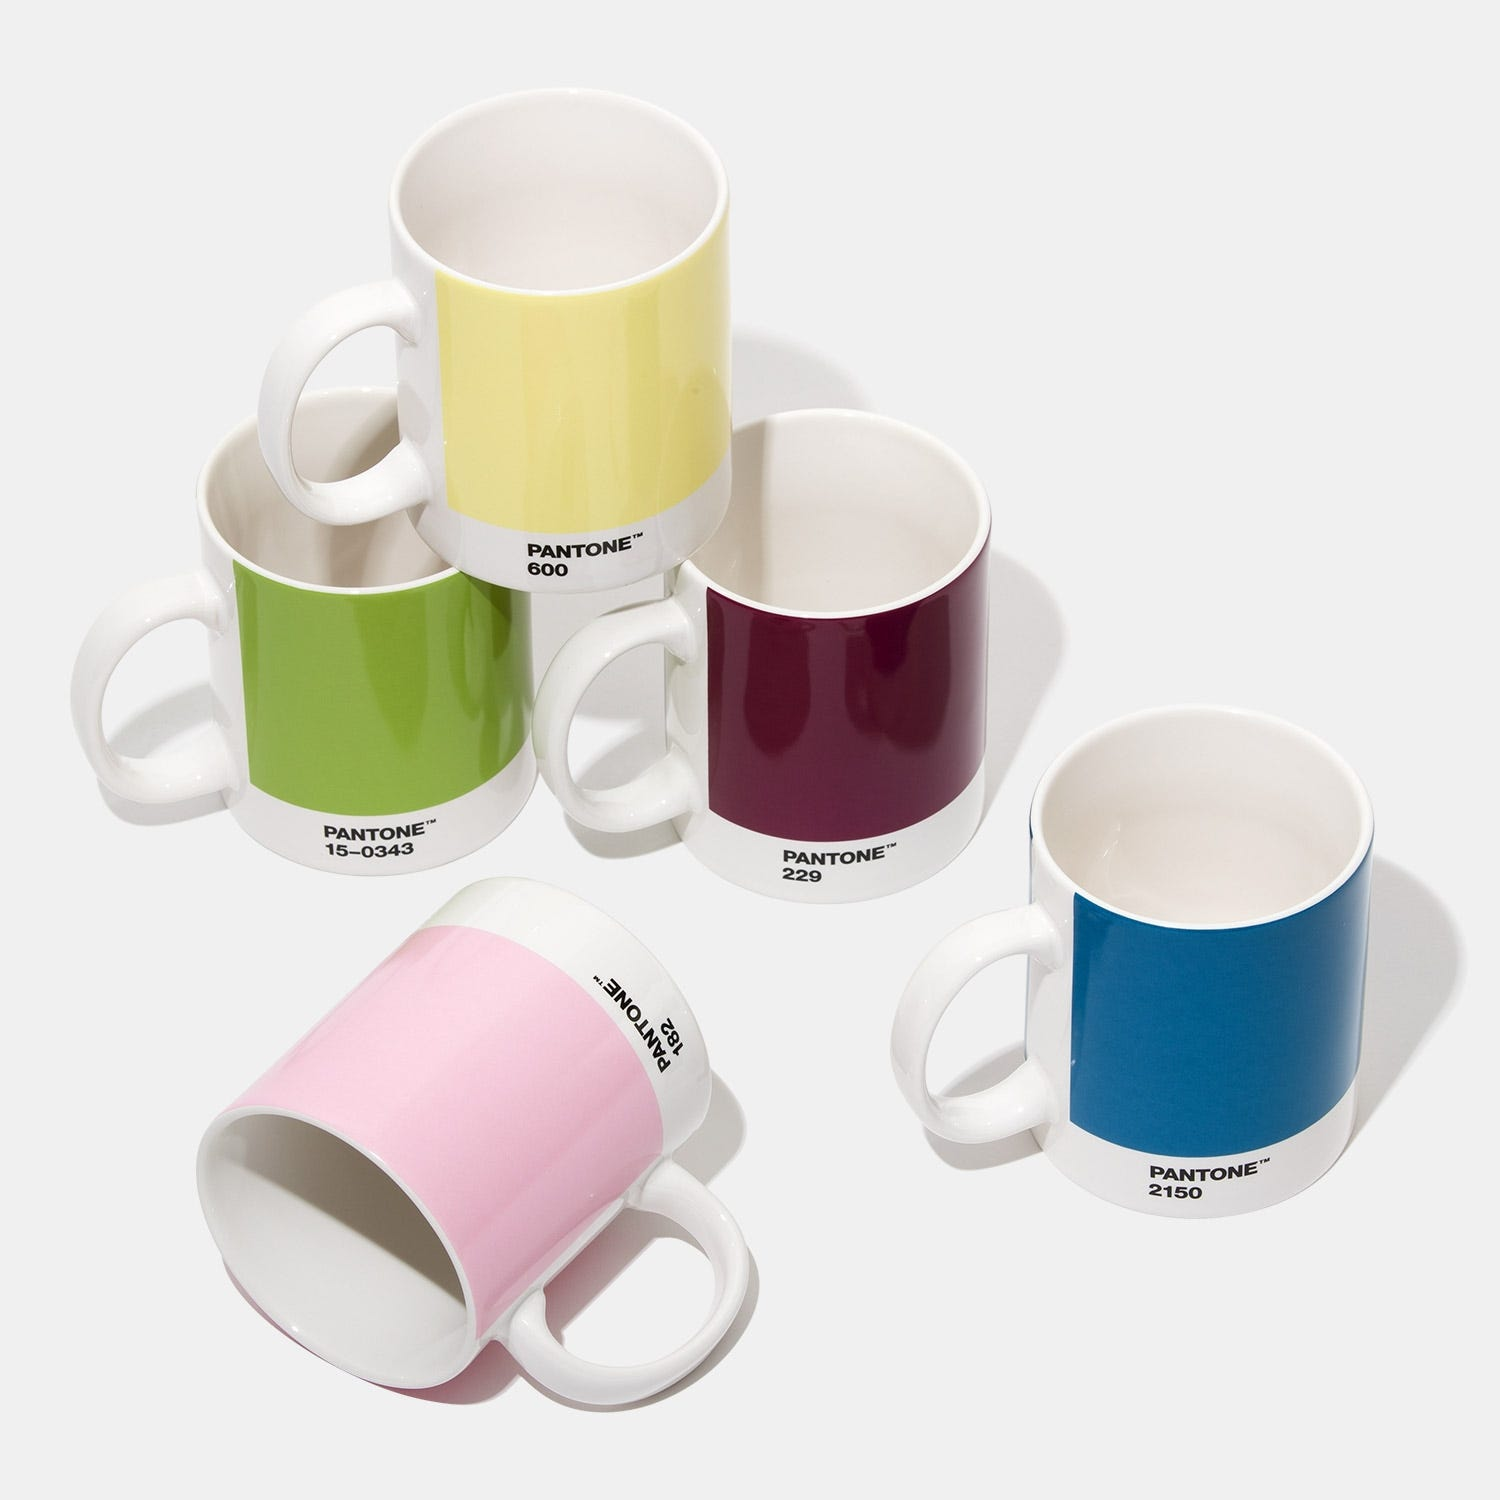gelas: (192, 865, 749, 1405), (876, 716, 1374, 1218), (282, 88, 749, 604), (92, 387, 538, 854), (644, 409, 992, 880)
